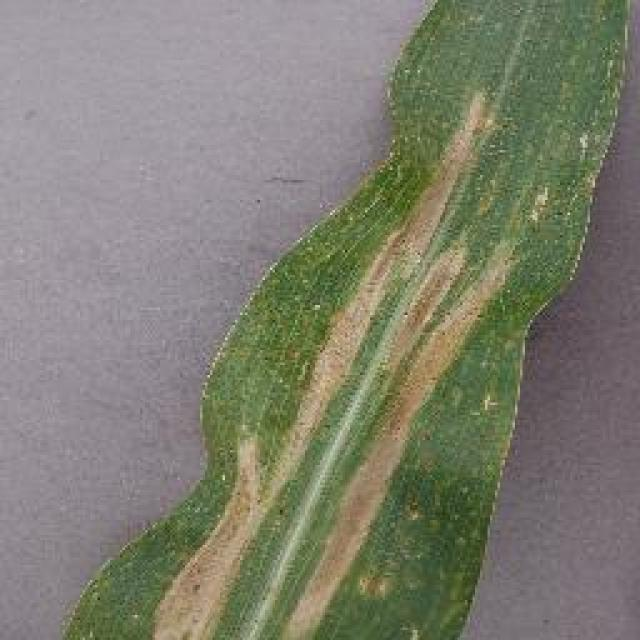Corn___Northern_Leaf_Blight: (17, 2, 635, 640)
